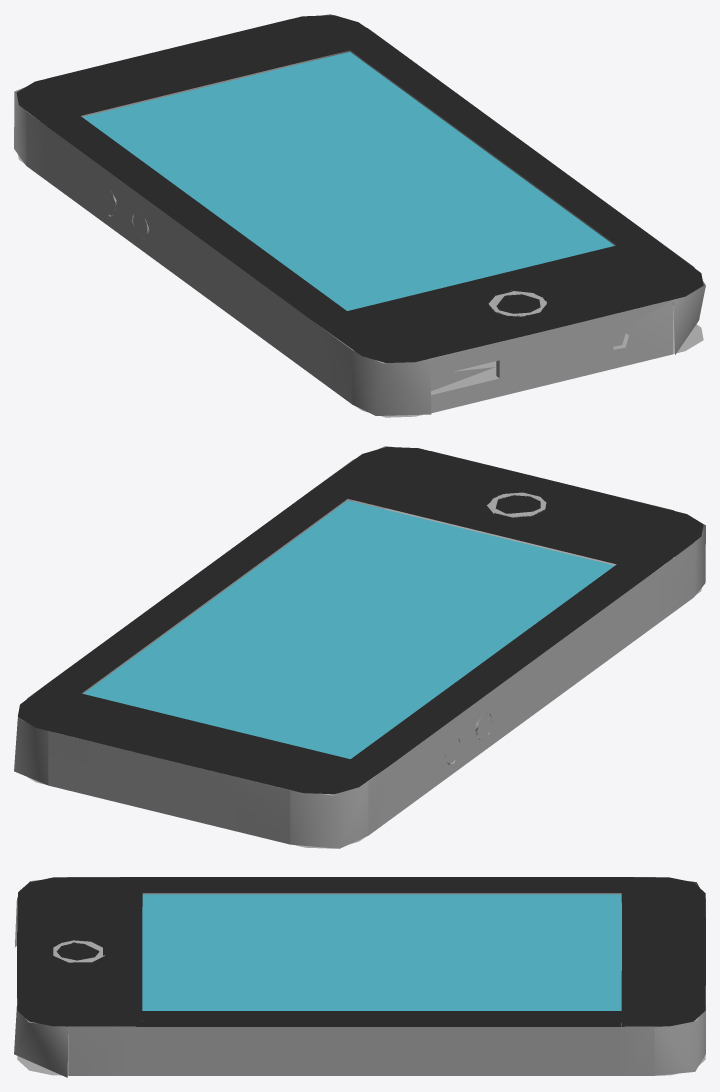
The model's file is phone.fbx.
3 views of the same model, one above another, from view 1: azimuth 30°, elevation 25°; view 2: azimuth 150°, elevation 25°; view 3: azimuth 270°, elevation 25° (orthographic). The views are drawn at different scales.
Visible parts, largest first — view 1: Box20186; view 2: Box20186; view 3: Box20186.
Boxes of the visible parts, x1=… form: Box20186: x1=14, y1=14, x2=705, y2=417; Box20186: x1=14, y1=446, x2=705, y2=848; Box20186: x1=14, y1=877, x2=705, y2=1077.
Size of the model in its own units: 0.5229 by 0.0792 by 1.
